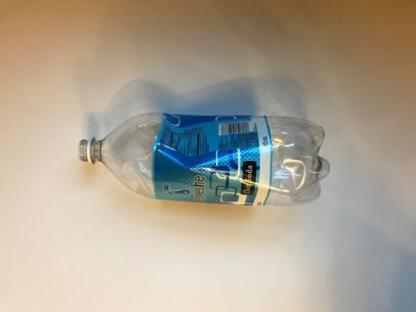Plastic Bottle: (79, 113, 331, 206)
